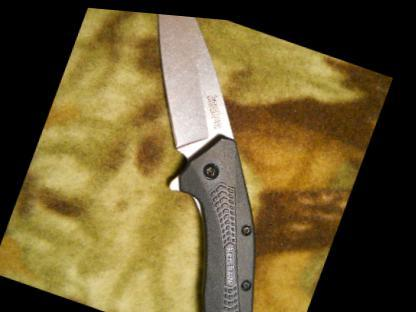knife: (87, 7, 285, 182)
